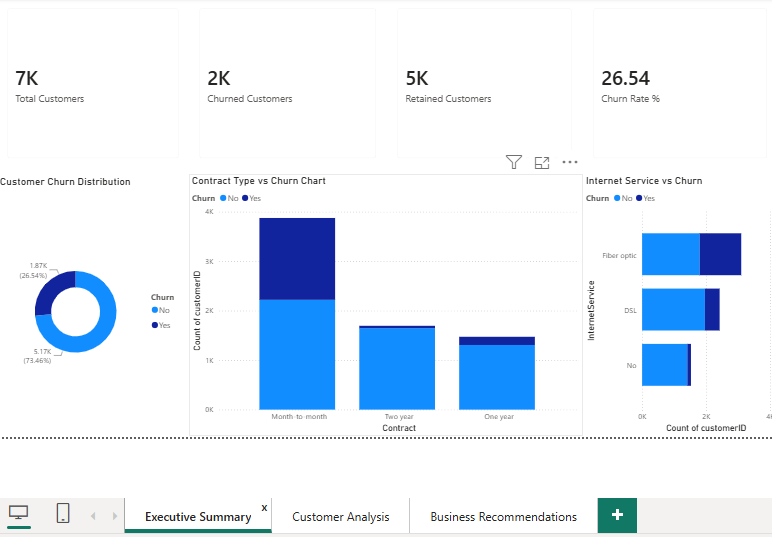

The dashboard page shown, as its layout file describes it:
{"tool":"powerbi","page":{"name":"Executive Summary","canvas":[1280,720],"ordinal":0},"visuals":[{"type":"cardVisual","fields":{"Data":["WA_Fn-UseC_-Telco-Customer-Churn.Total Customers"]},"box":[0,0,315.8,280.5],"z":0},{"type":"cardVisual","fields":{"Data":["WA_Fn-UseC_-Telco-Customer-Churn.Churned Customers"]},"box":[315.8,0,324.2,280.5],"z":1000},{"type":"cardVisual","fields":{"Data":["WA_Fn-UseC_-Telco-Customer-Churn.Retained Customers"]},"box":[640,0,320.8,280.5],"z":2000},{"type":"cardVisual","fields":{"Data":["WA_Fn-UseC_-Telco-Customer-Churn.Churn Rate %"]},"box":[960.8,0,319.2,280.5],"z":3000},{"type":"donutChart","title":"Customer Churn Distribution","fields":{"Category":["WA_Fn-UseC_-Telco-Customer-Churn.Churn"],"Y":["CountNonNull(WA_Fn-UseC_-Telco-Customer-Churn.customerID)"]},"box":[0,290.6,315.8,430],"z":4000},{"type":"columnChart","title":"Contract Type vs Churn Chart","fields":{"Category":["WA_Fn-UseC_-Telco-Customer-Churn.Contract"],"Y":["CountNonNull(WA_Fn-UseC_-Telco-Customer-Churn.customerID)"],"Series":["WA_Fn-UseC_-Telco-Customer-Churn.Churn"]},"box":[315.8,288.9,645,430],"z":5000},{"type":"barChart","title":"Internet Service vs Churn","fields":{"Category":["WA_Fn-UseC_-Telco-Customer-Churn.InternetService"],"Y":["CountNonNull(WA_Fn-UseC_-Telco-Customer-Churn.customerID)"],"Series":["WA_Fn-UseC_-Telco-Customer-Churn.Churn"]},"box":[960.8,288.9,319.2,430],"z":6000}]}

Visuals, with their boxes on the page's 1280x720 design canvas (x1, y1, x2, y2). These are canvas units, not pixel positions in the 772x537 screenshot, which may show the page scaled, cropped or inside an application window:
cardVisual - WA_Fn-UseC_-Telco-Customer-Churn.Total Customers: rect(0, 0, 316, 280)
cardVisual - WA_Fn-UseC_-Telco-Customer-Churn.Churned Customers: rect(316, 0, 640, 280)
cardVisual - WA_Fn-UseC_-Telco-Customer-Churn.Retained Customers: rect(640, 0, 961, 280)
cardVisual - WA_Fn-UseC_-Telco-Customer-Churn.Churn Rate %: rect(961, 0, 1280, 280)
"Customer Churn Distribution" donutChart: rect(0, 291, 316, 721)
"Contract Type vs Churn Chart" columnChart: rect(316, 289, 961, 719)
"Internet Service vs Churn" barChart: rect(961, 289, 1280, 719)
